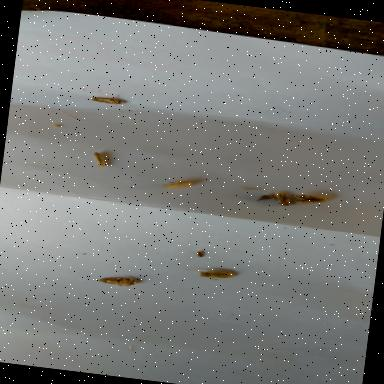pbw: (182, 264, 237, 284), (93, 271, 139, 289), (290, 190, 332, 208), (262, 189, 294, 208), (83, 92, 126, 106), (160, 177, 197, 193), (89, 150, 110, 170), (254, 193, 270, 203)
